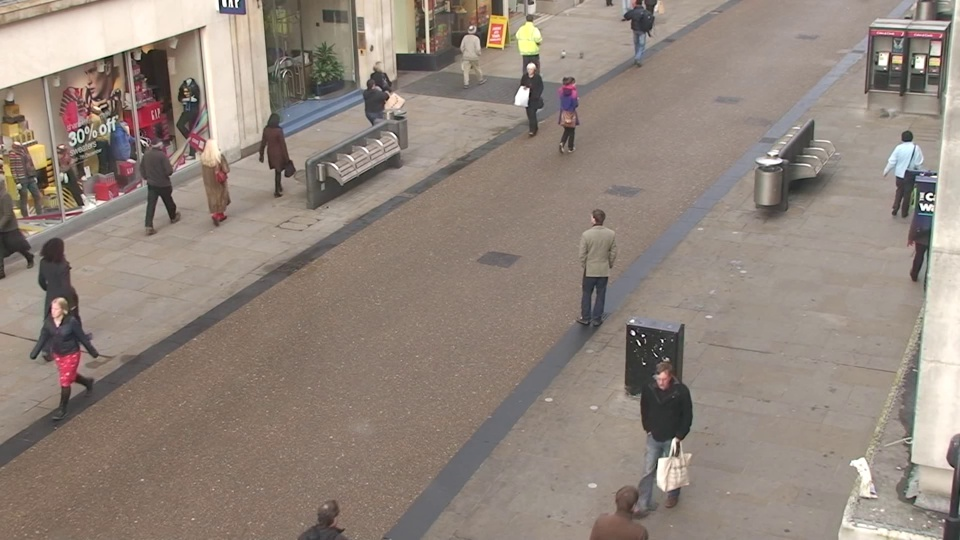pedestrian: (36, 291, 100, 431), (636, 357, 689, 515), (32, 233, 90, 358), (580, 203, 618, 323), (881, 126, 926, 227), (595, 472, 656, 540), (133, 133, 175, 230), (195, 134, 234, 233), (299, 486, 367, 540), (259, 109, 294, 201), (358, 75, 388, 159), (554, 72, 582, 156), (364, 60, 393, 139), (518, 60, 546, 141), (460, 22, 485, 92), (518, 11, 541, 78)
